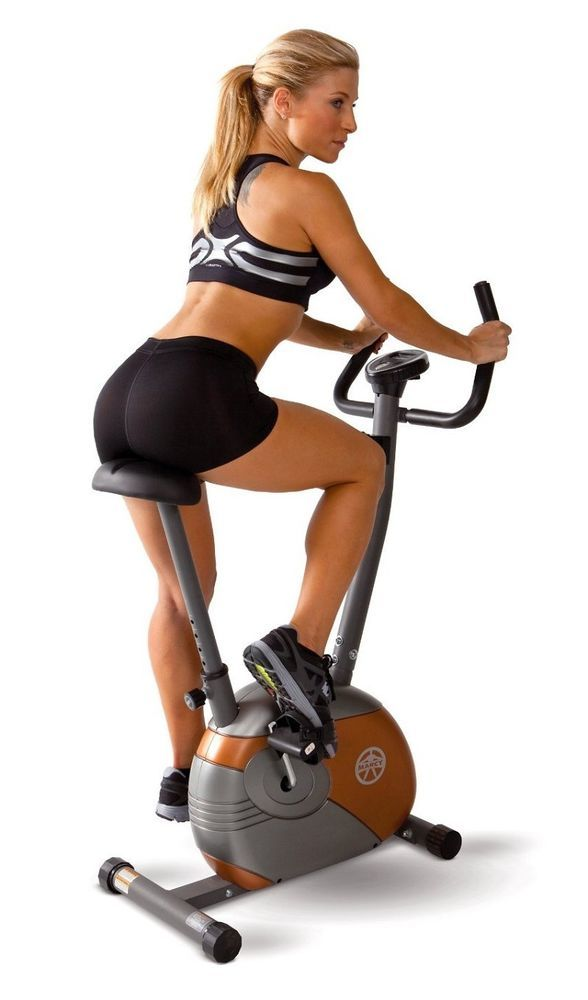gym_bike: (103, 303, 521, 907)
